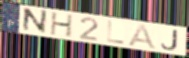2: (78, 17, 99, 43)
A: (127, 23, 159, 51)
H: (49, 12, 75, 39)
J: (160, 29, 179, 51)
L: (106, 19, 126, 45)
N: (21, 7, 49, 36)
